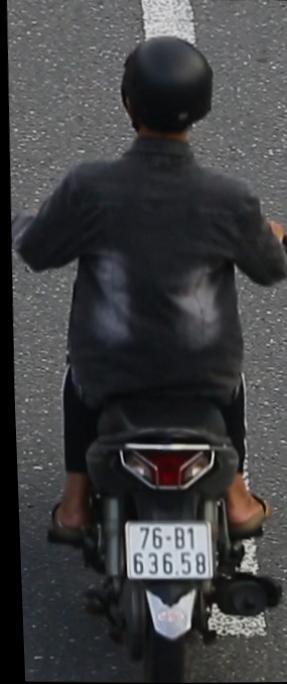LP: (117, 516, 213, 582)
helmet: (110, 31, 221, 179)
